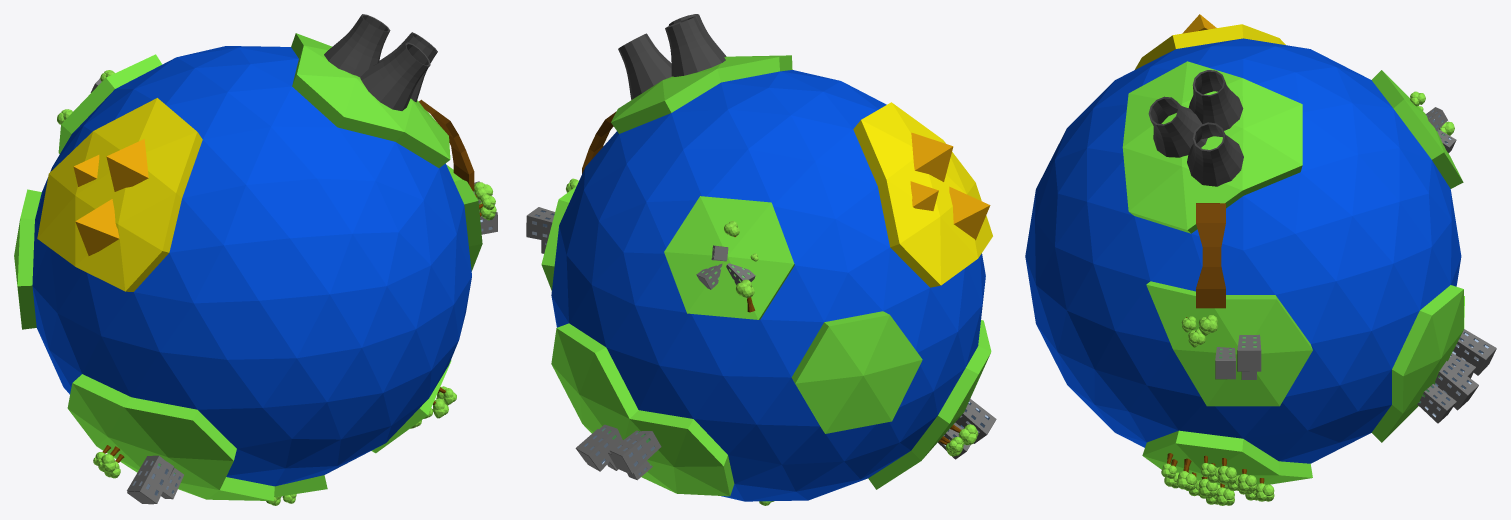
Rendered from EarthBet.glb.
3 views of the same model, side by side, from view 1: azimuth 30°, elevation 25°; view 2: azimuth 150°, elevation 25°; view 3: azimuth 270°, elevation 25° (orthographic). The views are drawn at different scales.
Parts seen in each view (by area): view 1: Icosphere; view 2: Icosphere; view 3: Icosphere.
Boxes of the visible parts, x1,y1,x2,y2 form: Icosphere: (14, 14, 497, 505); Icosphere: (526, 14, 996, 505); Icosphere: (1025, 14, 1496, 505).
Bounding box in the file's own units: 6.8 × 6.96 × 6.46.
